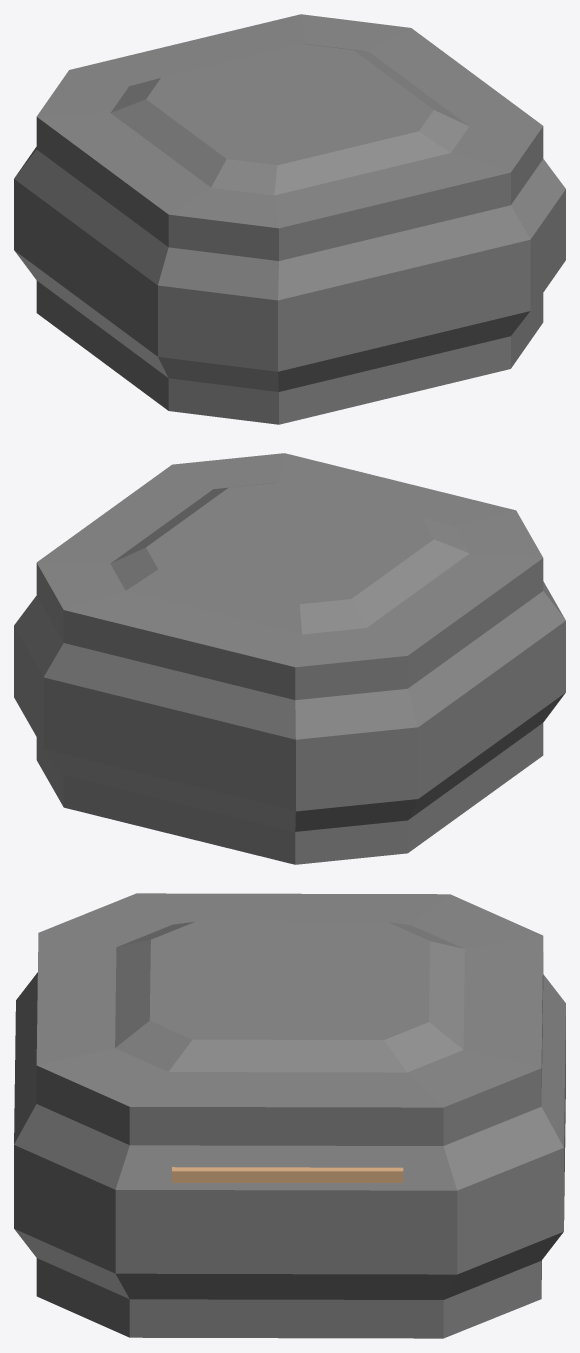
File: Blockout_03.fbx
The picture shows the model from 3 angles, top to bottom: view 1: azimuth 30°, elevation 25°; view 2: azimuth 150°, elevation 25°; view 3: azimuth 270°, elevation 25°; orthographic projection. The views are drawn at different scales.
Parts seen in each view (by area): view 1: Walls, Roof; view 2: Walls, Roof; view 3: Walls, Roof, Shelf.
Part boxes in pixels (x1,y1,x2,y2): Walls: (14,117,565,424); Roof: (37,14,542,228); Walls: (14,558,565,864); Roof: (36,453,542,667); Walls: (14,952,565,1338); Roof: (36,893,543,1107); Shelf: (172,1167,403,1182).
Bounding box in the file's own units: 1532 × 768 × 1532.
